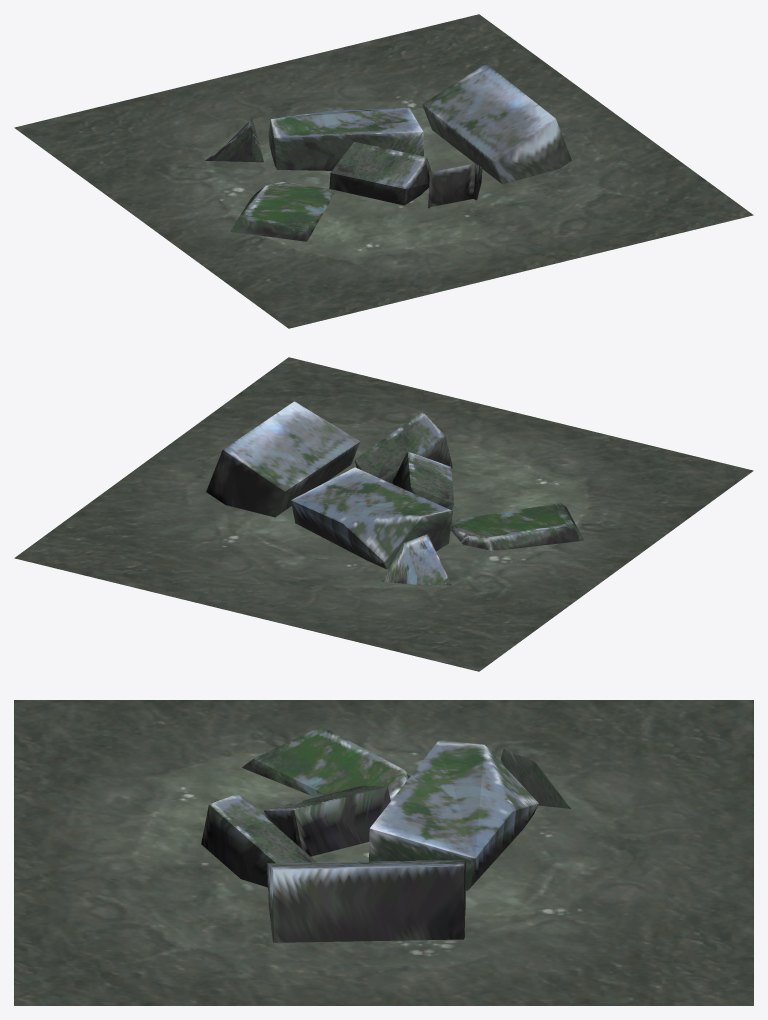
File: stemple_floor_rubble_08.fbx
3 views of the same model, one above another, from view 1: azimuth 30°, elevation 25°; view 2: azimuth 150°, elevation 25°; view 3: azimuth 270°, elevation 25° (orthographic). The views are drawn at different scales.
Visible parts, largest first — view 1: stemple_floor_rubble_08-0; view 2: stemple_floor_rubble_08-0; view 3: stemple_floor_rubble_08-0.
Boxes of the visible parts, left/top/right/bottom form: stemple_floor_rubble_08-0: left=14, top=14, right=753, bottom=328; stemple_floor_rubble_08-0: left=14, top=357, right=753, bottom=671; stemple_floor_rubble_08-0: left=14, top=700, right=753, bottom=1005.
Size of the model in its own units: 3.91 by 0.7159 by 4.
